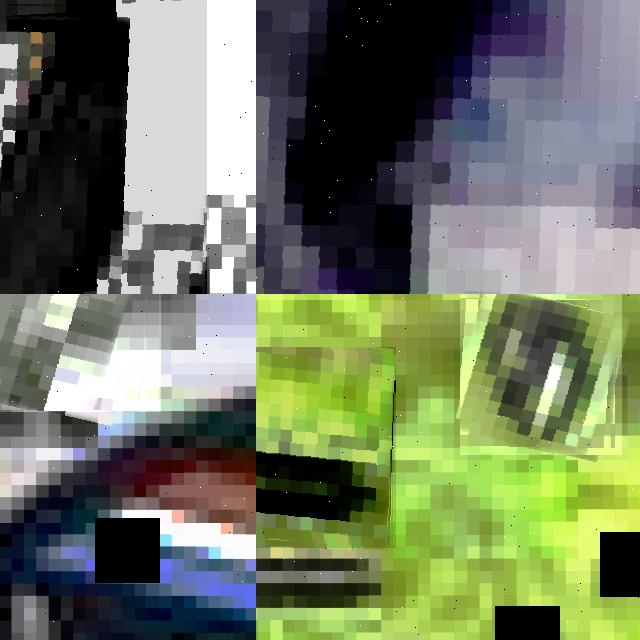arms: (256, 0, 640, 294), (0, 0, 207, 294), (256, 347, 396, 548), (459, 294, 622, 455), (0, 294, 160, 412)
